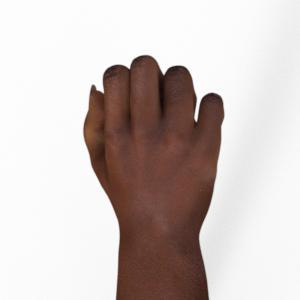rock: (84, 56, 224, 300)
